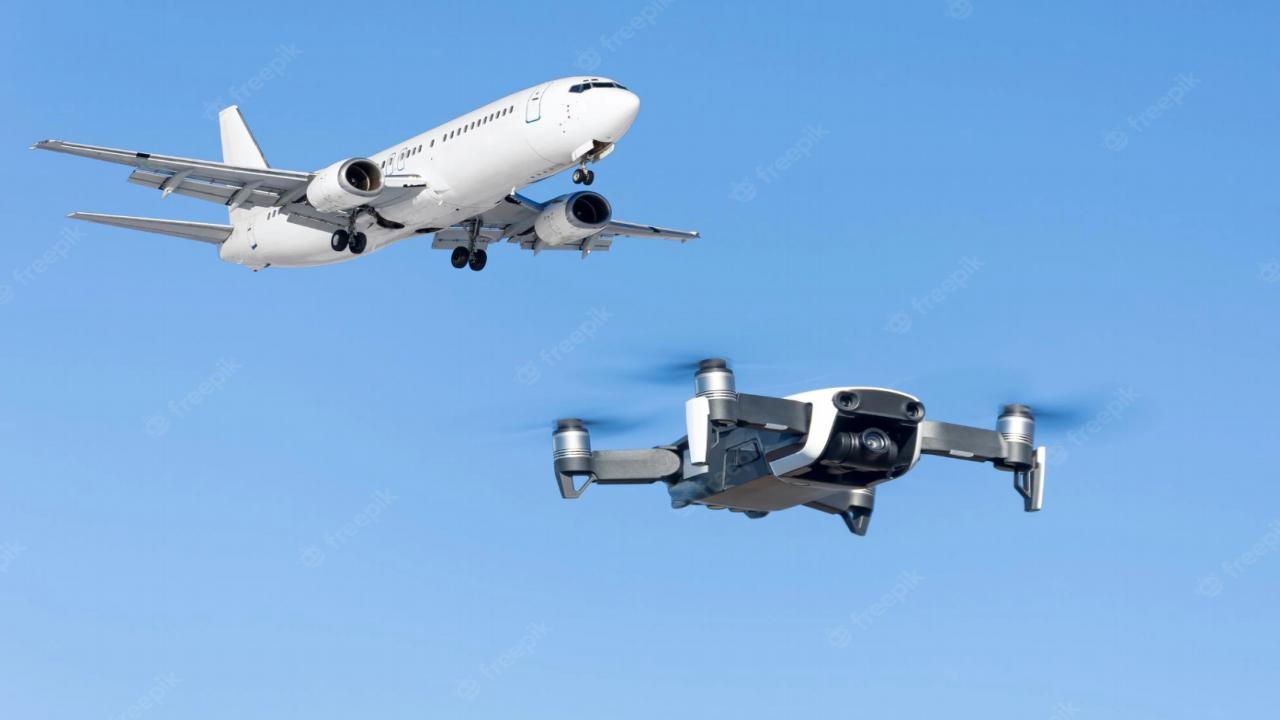Airplane: (20, 62, 750, 290)
Drone: (469, 330, 1140, 548)
